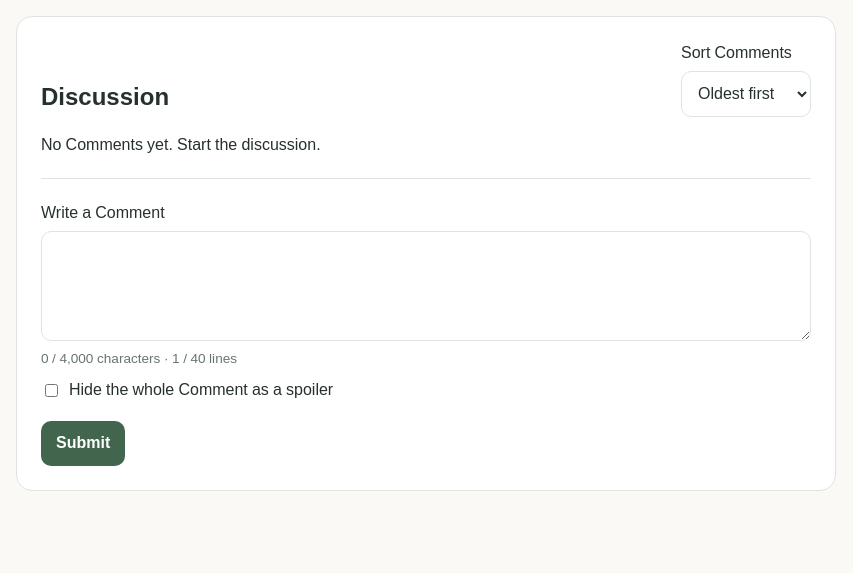
it: DiscussionPanel capabilities and accessibility › reuses an uncertain create key and generates a new key for changed normalized content
Type "same payload" into the text box labelled "Write a Comment" at point(426, 286), box [41,231,811,341]
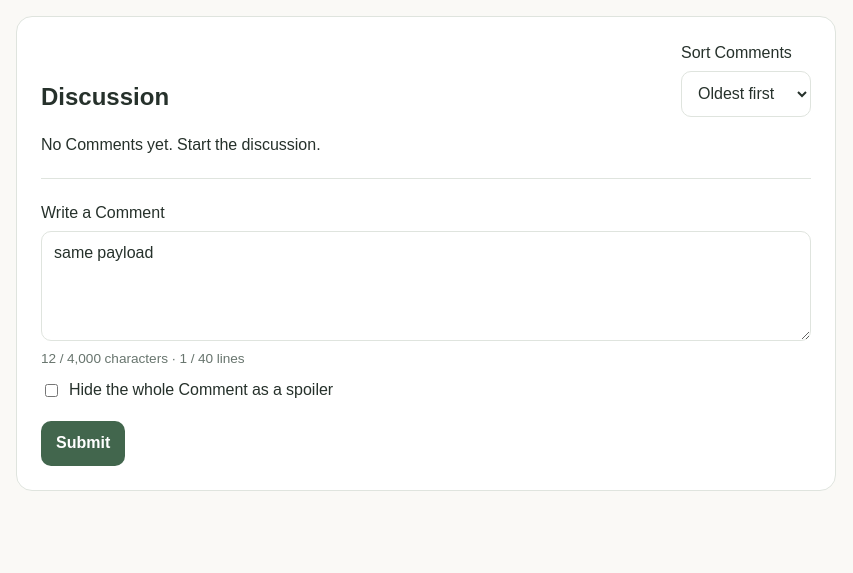
Submit the form "Write a Comment", box [41,201,811,466]
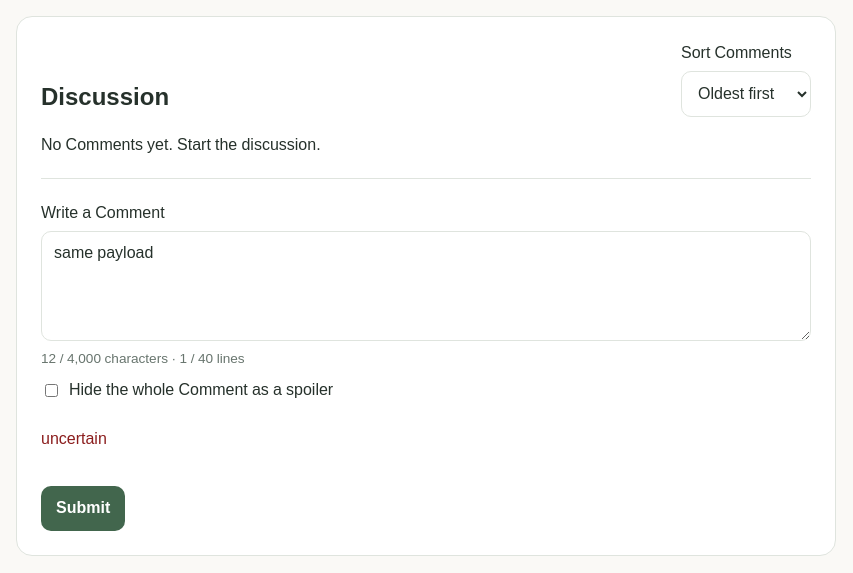
Expected: the message reads "uncertain", [41,427,107,451]
Submit the form "Write a Comment", box [41,201,811,531]
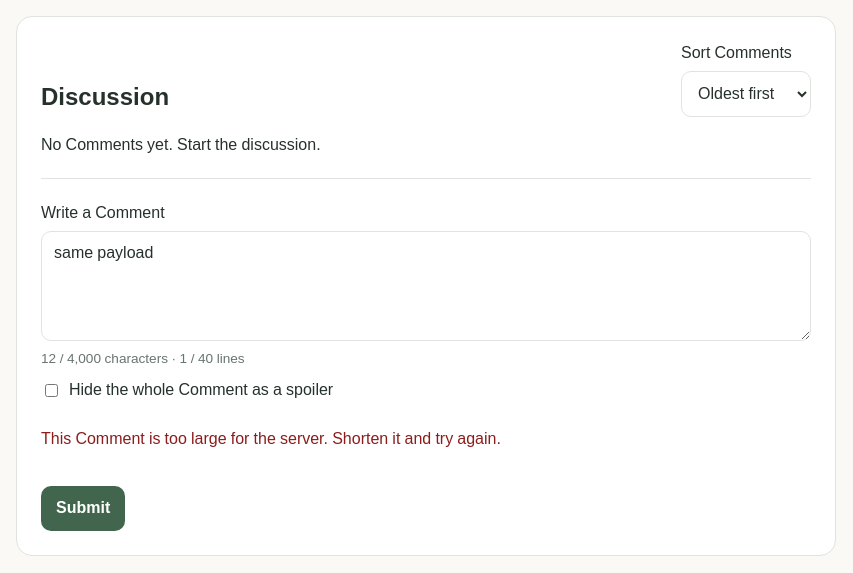
Expected: the message shows "too large", [41,427,501,451]
Replace the text in the text box labelled "Write a Comment" with "changed payload" at point(426, 286), box [41,231,811,341]
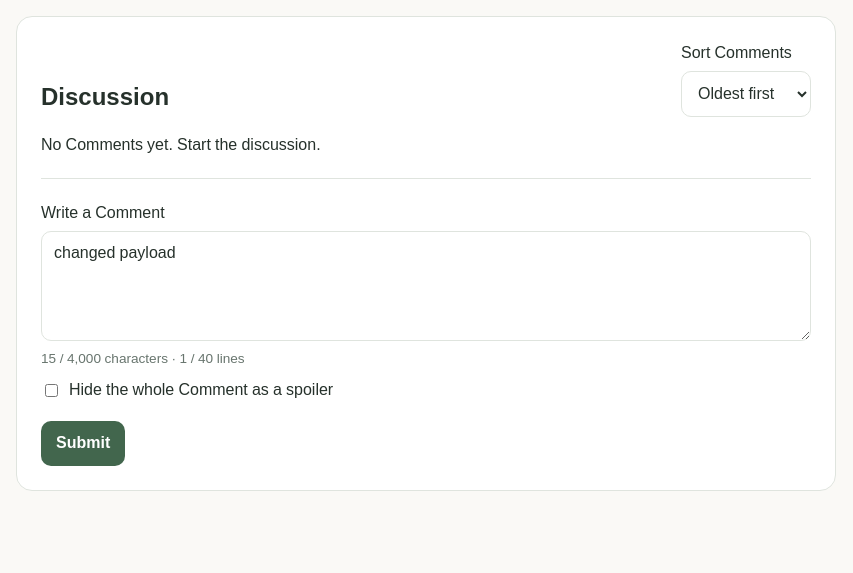
Submit the form "Write a Comment", box [41,201,811,466]
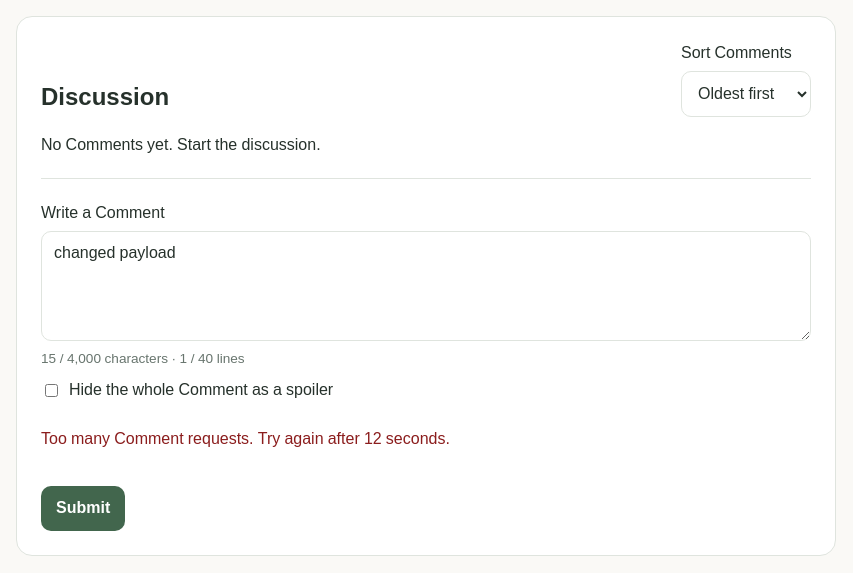
Expected: the message shows "after 12 seconds", [41,427,450,451]
